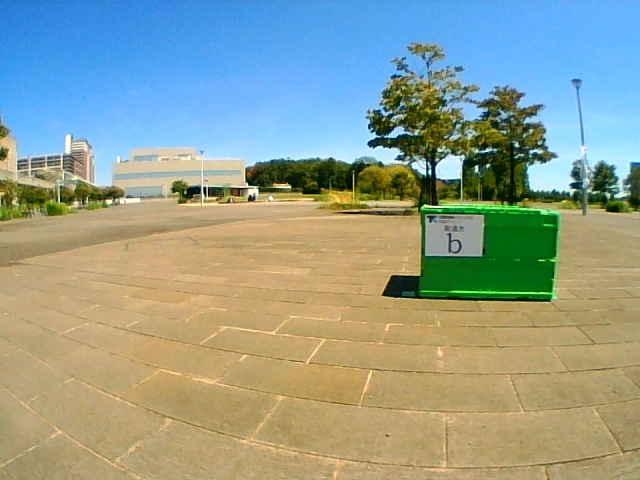green_box: (419, 205, 559, 301)
tag_b: (426, 215, 481, 255)
